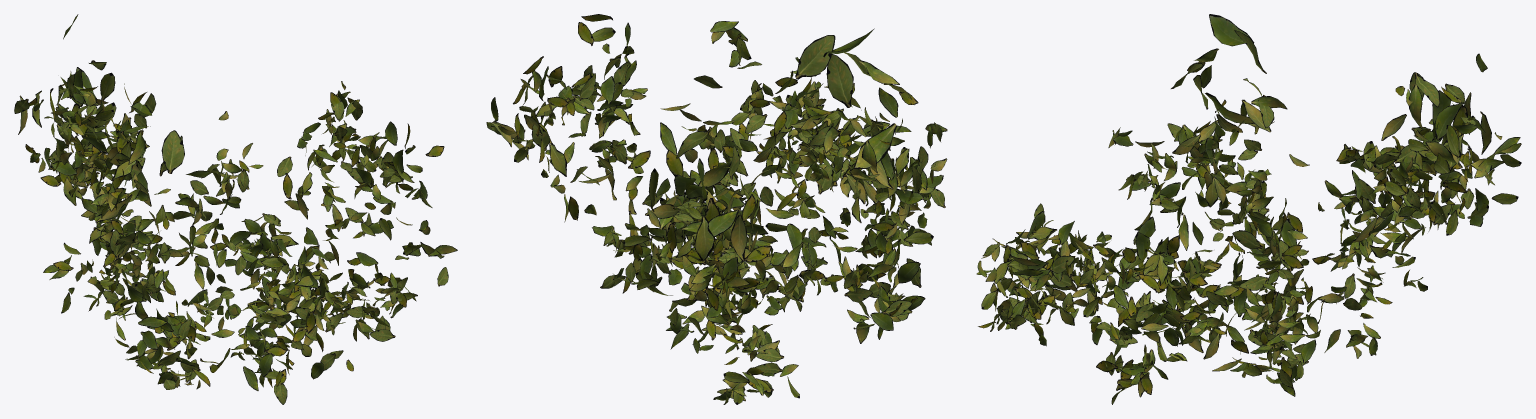
File: island_tree_03_leaf.glb
3 renders of one model, left to right at view 1: azimuth 30°, elevation 25°; view 2: azimuth 150°, elevation 25°; view 3: azimuth 270°, elevation 25°, orthographic. The views are drawn at different scales.
Visible parts, largest first — view 1: island_tree_03_LOD0; view 2: island_tree_03_LOD0; view 3: island_tree_03_LOD0.
Part boxes in pixels (<box>): island_tree_03_LOD0: <box>14,14,457,404</box>; island_tree_03_LOD0: <box>486,14,947,404</box>; island_tree_03_LOD0: <box>976,14,1521,404</box>.
Size of the model in its own units: 2.3 by 1.9 by 2.82.
Materials: 1 (1 with a texture image).
